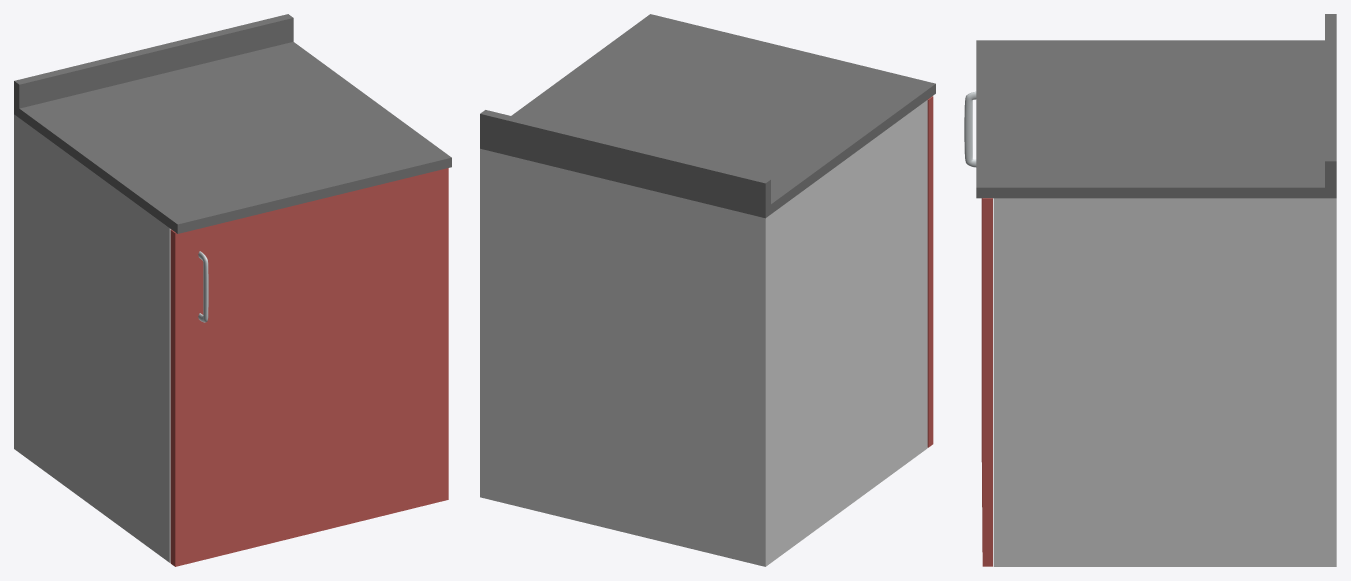
Rendered from cabinet.fbx.
3 renders of one model, left to right at view 1: azimuth 30°, elevation 25°; view 2: azimuth 150°, elevation 25°; view 3: azimuth 270°, elevation 25°, orthographic. The views are drawn at different scales.
Parts seen in each view (by area): view 1: Cabinet1_Door, Countertop1, Cabinet1; view 2: Cabinet1, Countertop1, Cabinet1_Door; view 3: Cabinet1, Countertop1, Cabinet1_Door, Handle.
Part boxes in pixels (<box>): Cabinet1_Door: <box>170,168,448,566</box>; Countertop1: <box>14,14,451,233</box>; Cabinet1: <box>14,114,170,562</box>; Cabinet1: <box>480,100,927,566</box>; Countertop1: <box>480,14,935,218</box>; Cabinet1_Door: <box>927,96,933,447</box>; Cabinet1: <box>993,198,1336,566</box>; Countertop1: <box>976,14,1336,198</box>; Cabinet1_Door: <box>981,198,992,566</box>; Handle: <box>964,91,976,167</box>.
Size of the model in its own units: 60 by 77 by 64.03.
